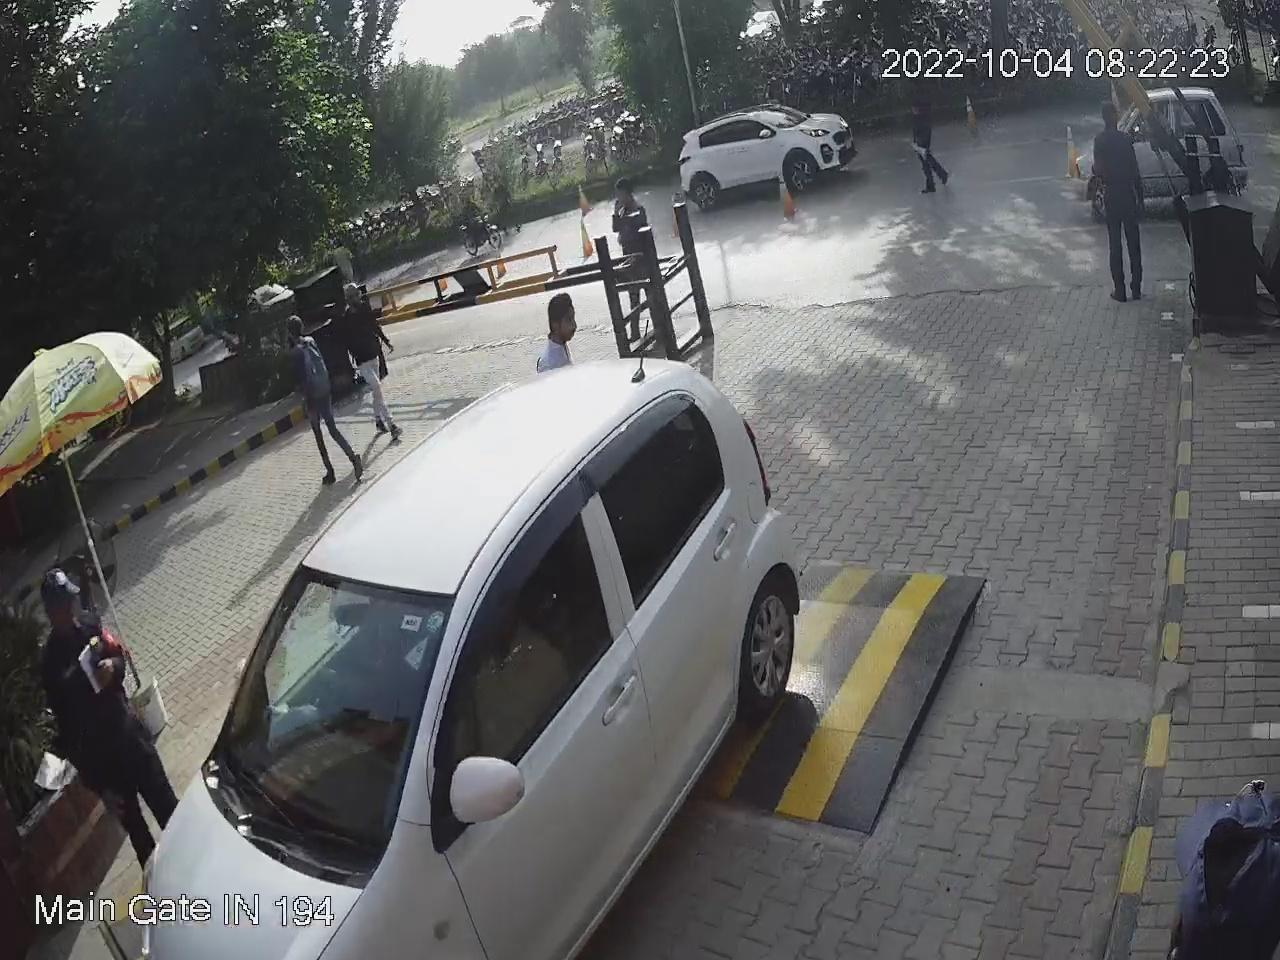windshield: (196, 558, 461, 887)
